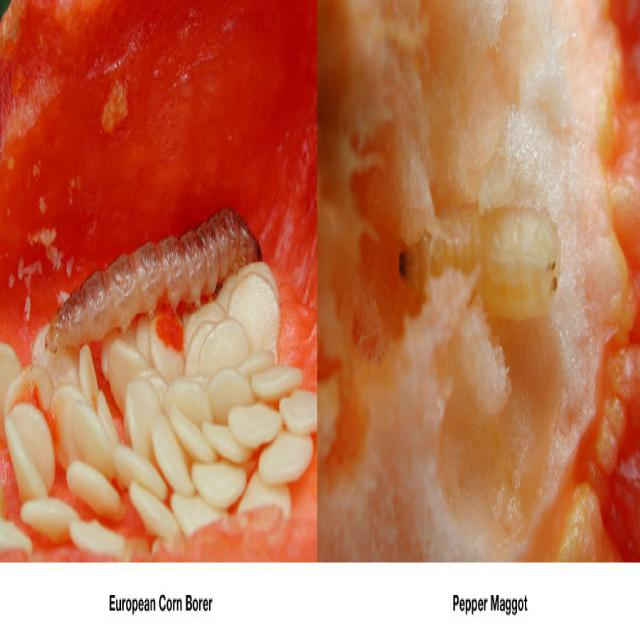cornborer-Larva-: (45, 191, 273, 358)
